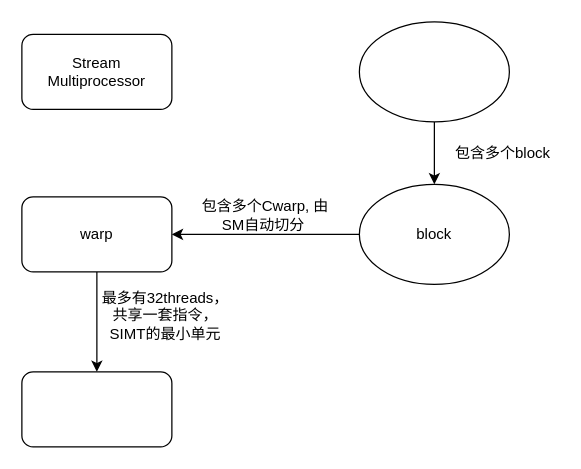
The diagram is 581 pixels wide and 469 high, and some of its shapes have lost their labels. The centre of each missing label's shape, as x and y in pixels:
"grid" goes at (433,71).
"Thread" goes at (96,409).
